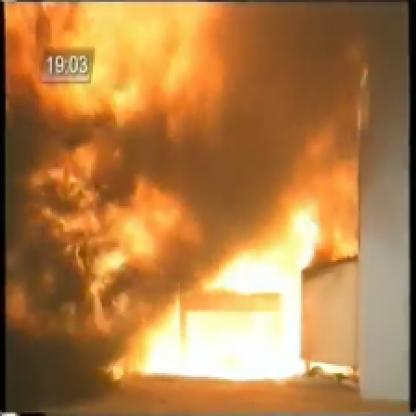fire: (6, 0, 239, 132)
